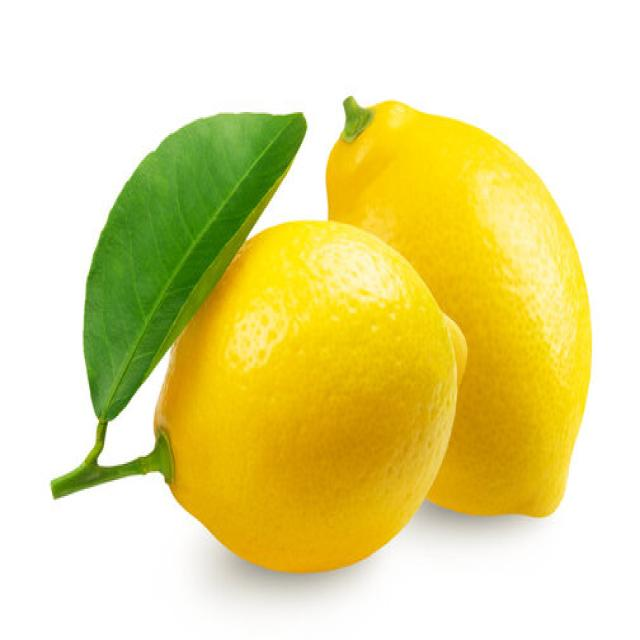Lemon: (324, 92, 592, 518), (152, 217, 465, 572)
